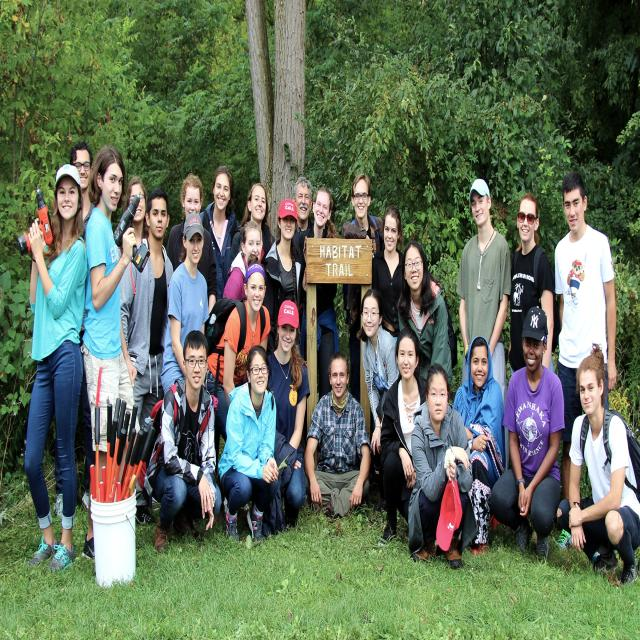body: (21, 159, 89, 576), (77, 142, 141, 571), (554, 170, 618, 564), (456, 178, 512, 534), (489, 306, 566, 560), (138, 329, 222, 555), (119, 186, 174, 527), (567, 345, 640, 588), (54, 141, 94, 517), (216, 342, 281, 552), (408, 362, 473, 570), (203, 251, 273, 440), (302, 348, 376, 522), (451, 334, 508, 558), (296, 185, 340, 458), (377, 323, 428, 549), (340, 171, 386, 402), (267, 300, 310, 531), (159, 211, 211, 400), (356, 288, 399, 514), (508, 192, 558, 380), (396, 238, 454, 388), (262, 198, 308, 370), (165, 171, 218, 319), (198, 163, 242, 300), (370, 205, 411, 337), (228, 182, 277, 275), (222, 219, 263, 301), (119, 176, 150, 256), (292, 175, 315, 247)
